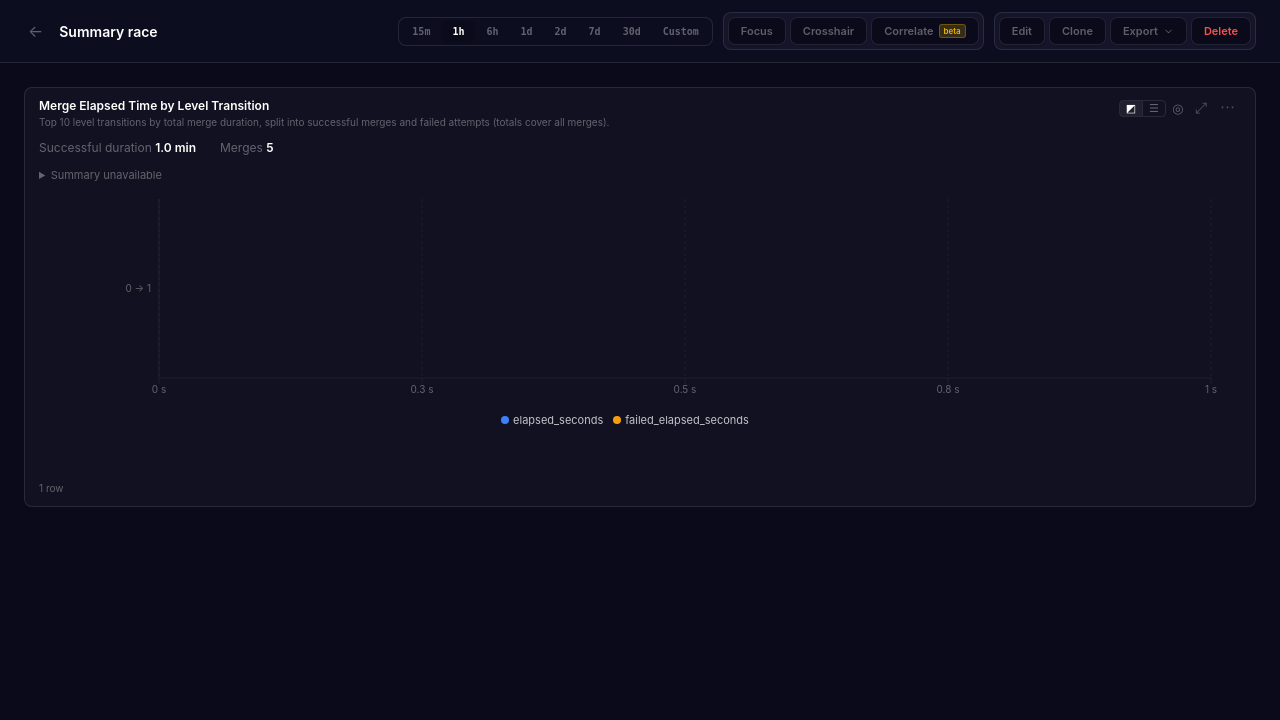
it: DashboardViewer query version compatibility › discards stale summaries after a time change and clears them on a failed refresh
Expected: the text named "Successful duration: 60 s" is shown, [155,140,196,155]
Click the button "15m": (421, 31) [402,20,440,42]
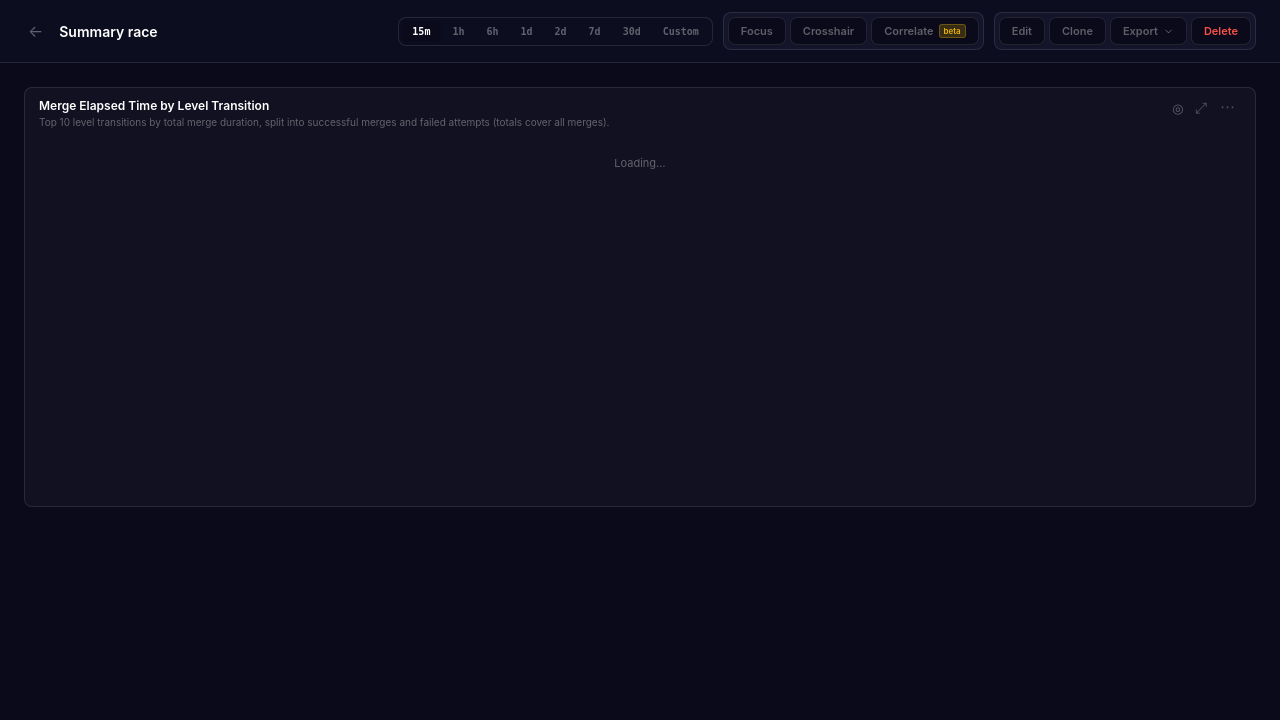
Click the button "6h": (492, 31) [476,20,508,42]
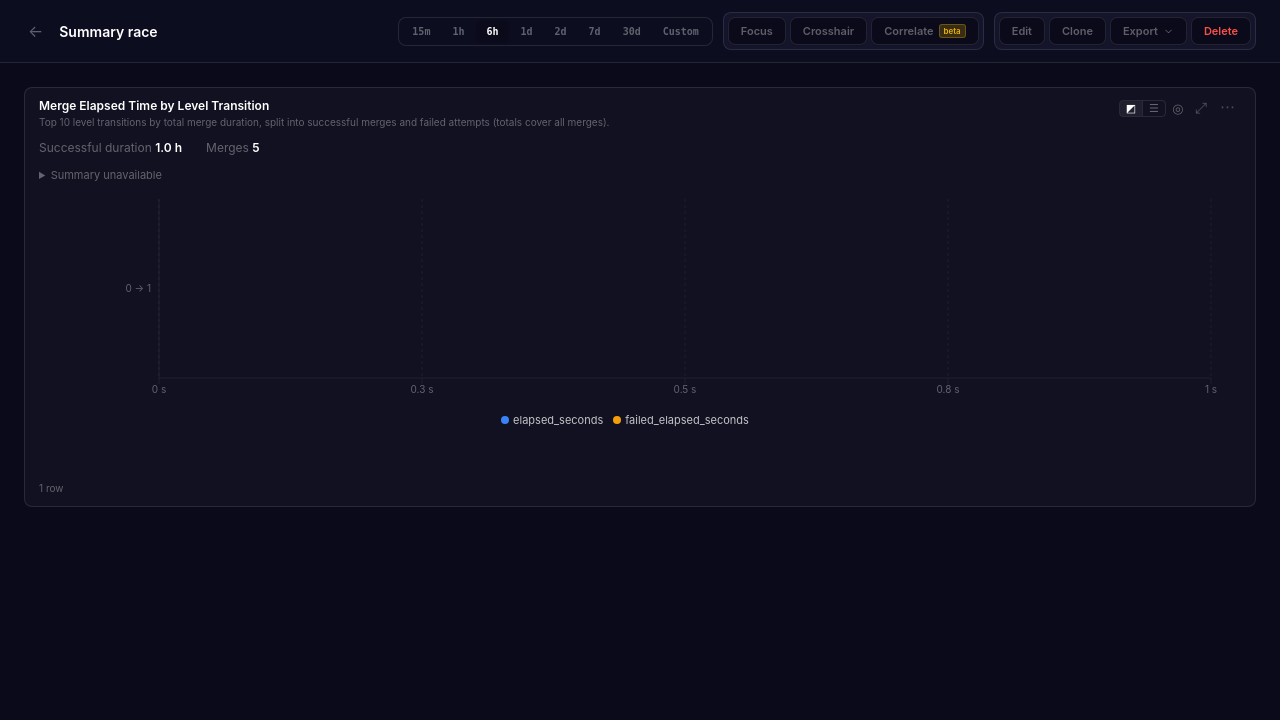
Expected: the text named "Successful duration: 3600 s" is shown, [155,140,182,155]
Click the button "1h": (458, 31) [442,20,474,42]
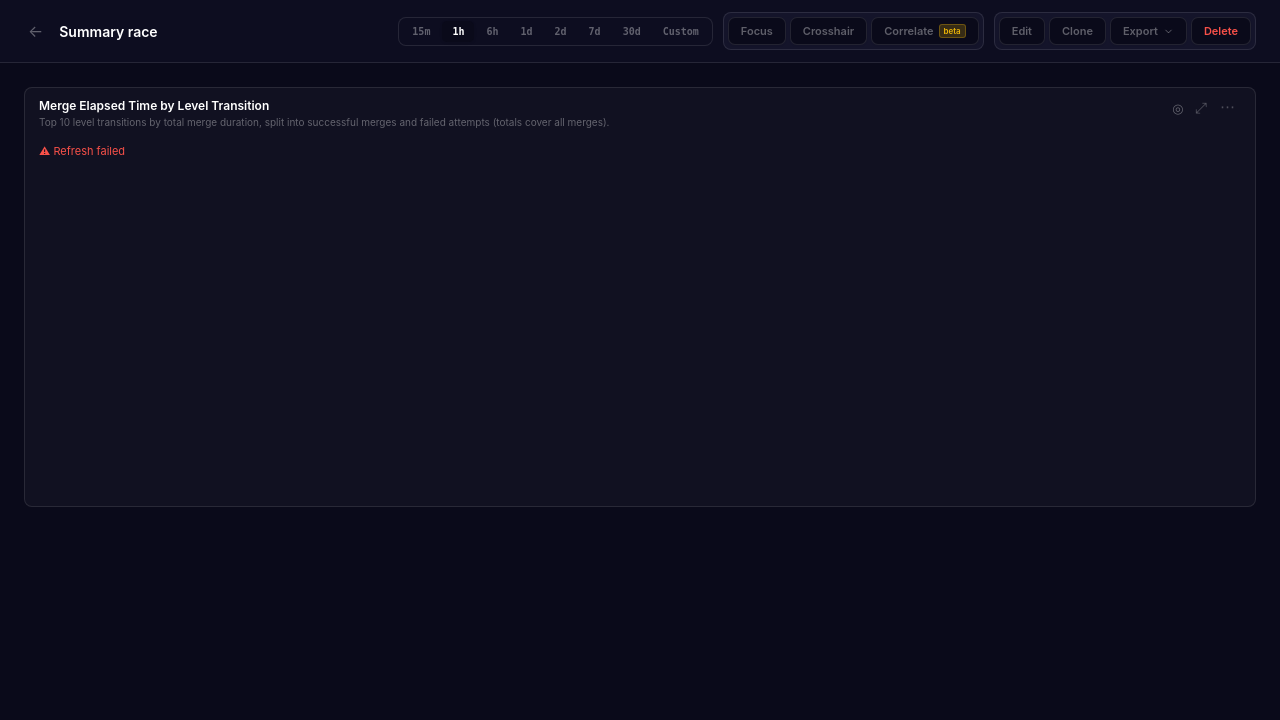
Expected: the text "⚠ Refresh failed" is shown, [39,144,125,158]
